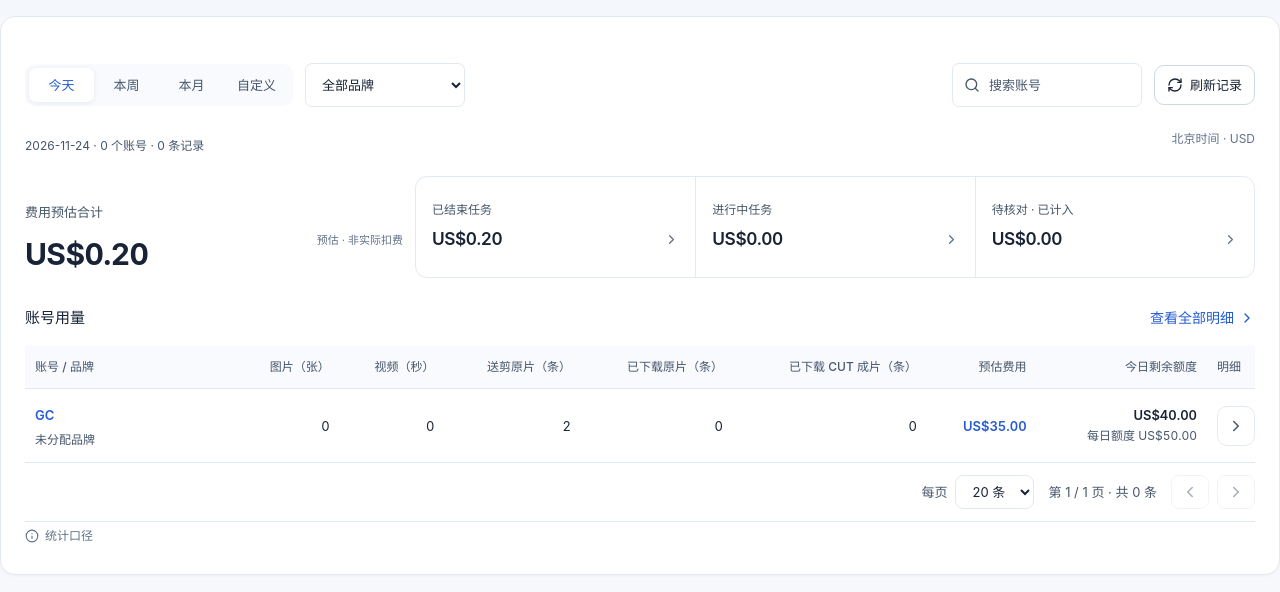
Scenario: administrator-only usage workspace › uses the selected day rather than today for the quota and supports a historical range
Later steps or results of the test are not shown.
Click the button "自定义" at (256, 85), box [224,68,289,102]
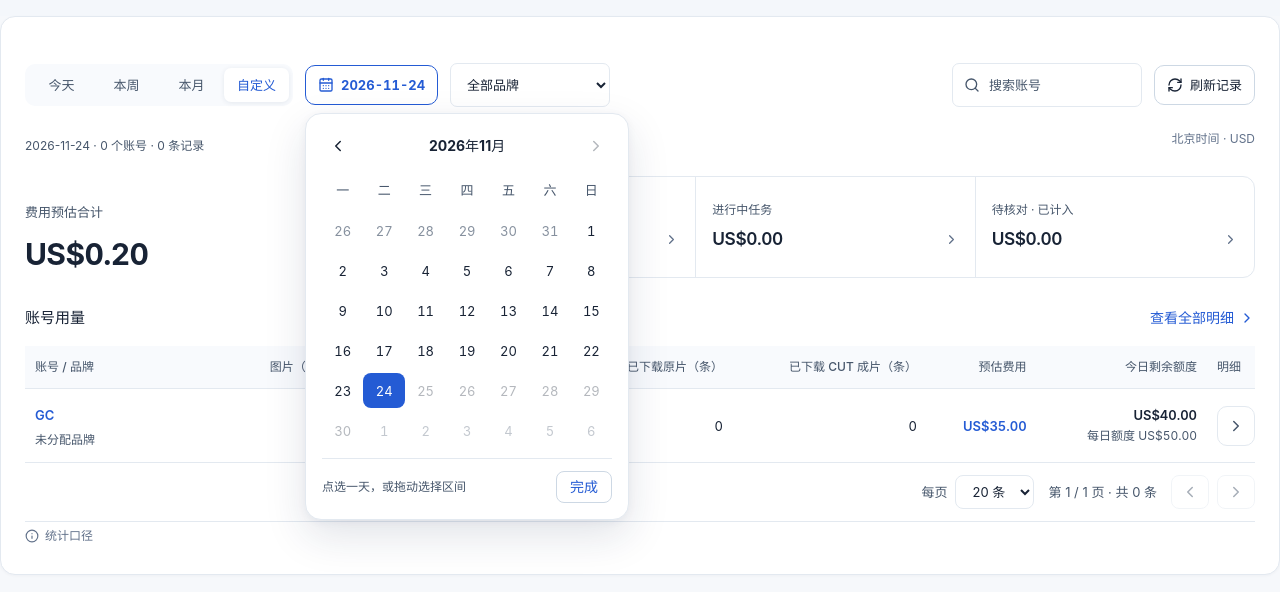
Click the button "18" at (426, 351), box [405,333,446,368]
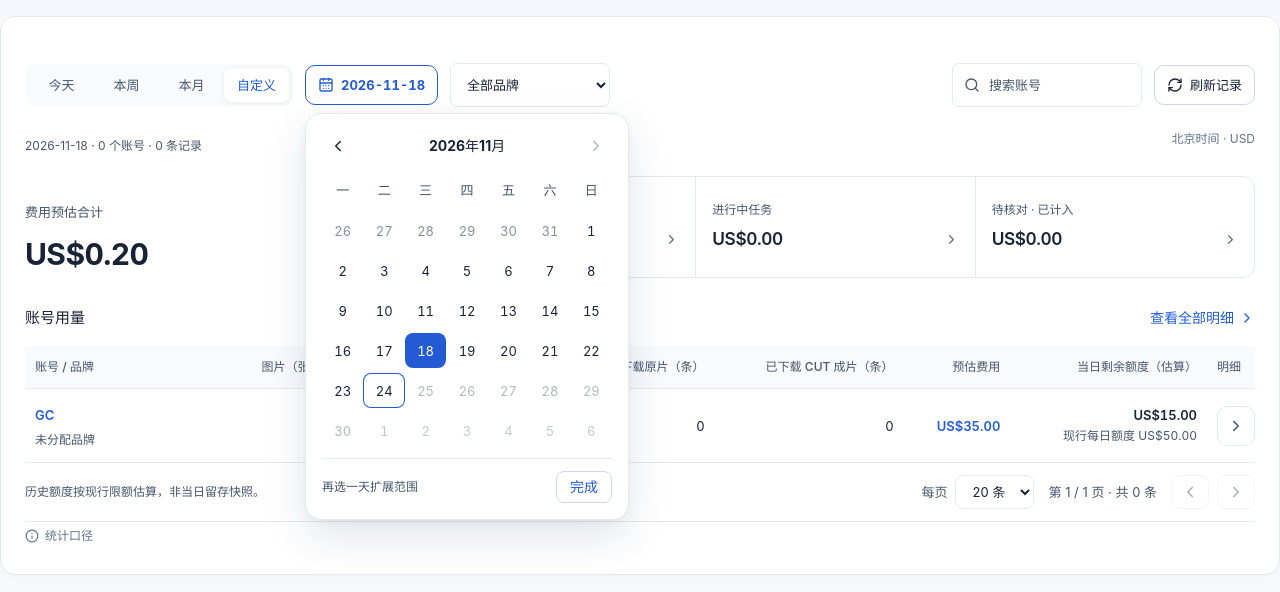
Result: the cell "US$15.00 现行每日额度 US$50.00" is shown at [1010,390,1207,462]
Result: the text "US$40.00" is gone
Click the button "20" at (508, 351), box [488,333,529,368]
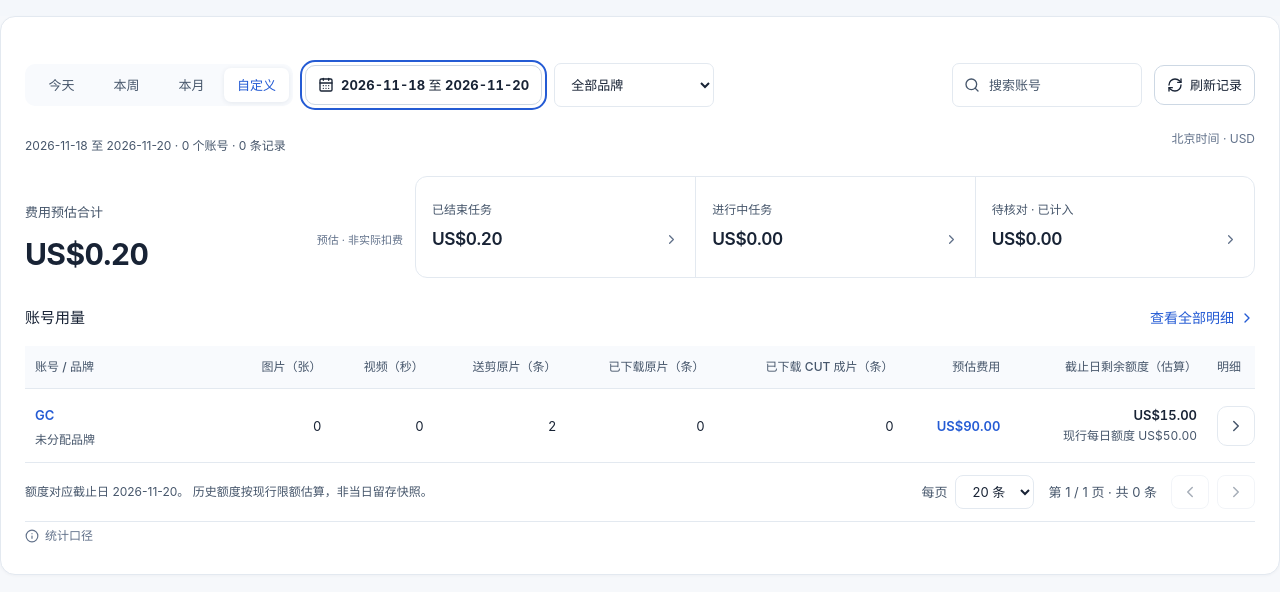
Result: the cell "US$15.00 现行每日额度 US$50.00" is shown at [1010,390,1207,462]
Result: the element with class "admin-usage-footer" shows "非当日留存快照" at [189,484,433,499]
